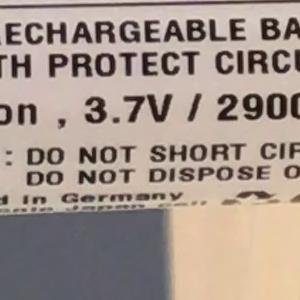keyword: (74, 84, 182, 134)
